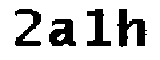1: (86, 8, 114, 49)
2: (11, 6, 46, 51)
a: (47, 18, 78, 48)
h: (117, 7, 150, 51)
